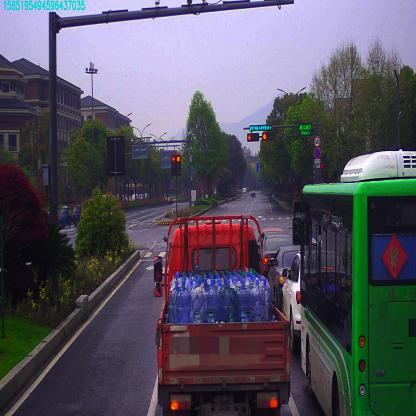traffic-light: (248, 124, 273, 130), (248, 134, 260, 143), (262, 133, 274, 141)
